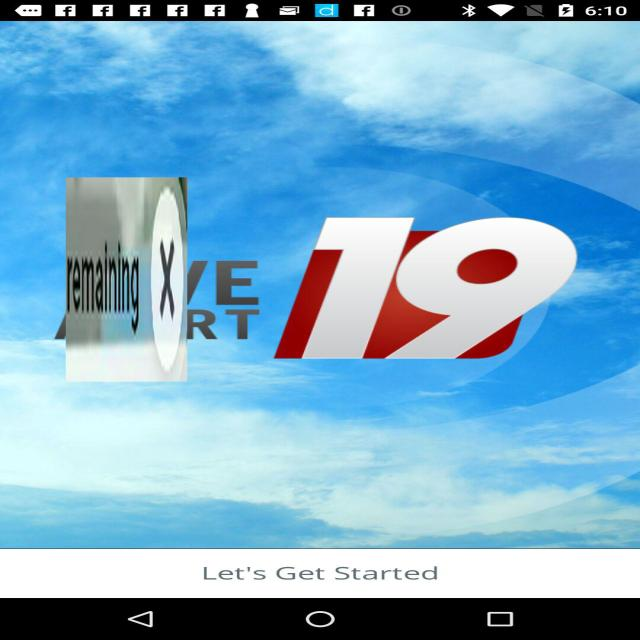misdirection: (66, 177, 187, 382)
